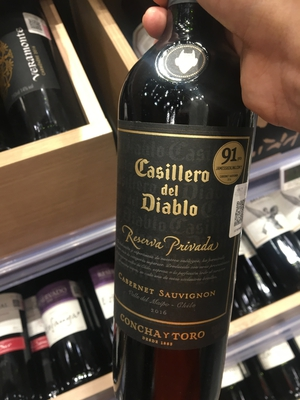casillero del diablo reserva privada cabernet sauvignon: (98, 8, 267, 382)
